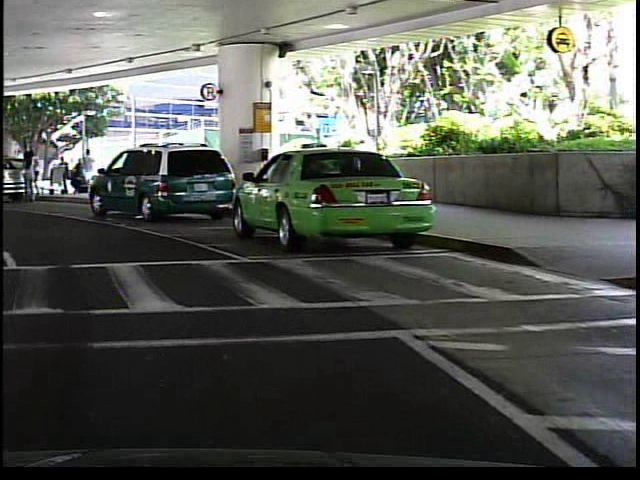person: (18, 152, 37, 203)
